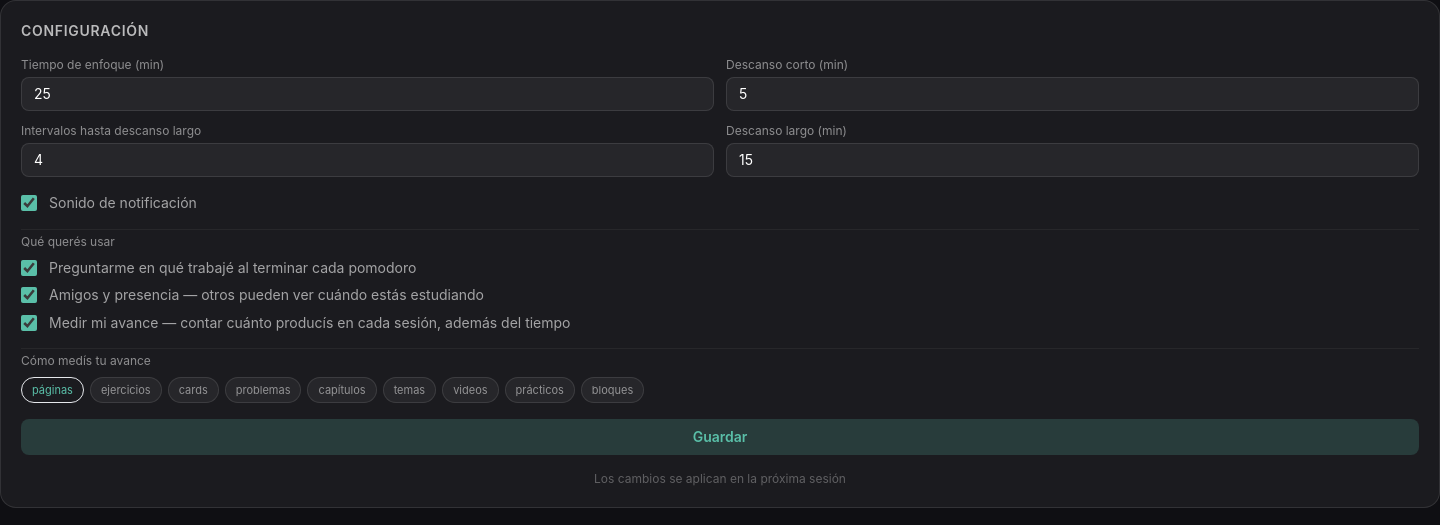
Test: SettingsPanel — unidad de avance › destildarla los esconde
This screenshot has width=1440, height=525.
What coordinates should you click on to do the following:
click the checkbox labelled "Medir mi avance"
I would click on:
 (29, 322)
Its box is [21,314,37,330].
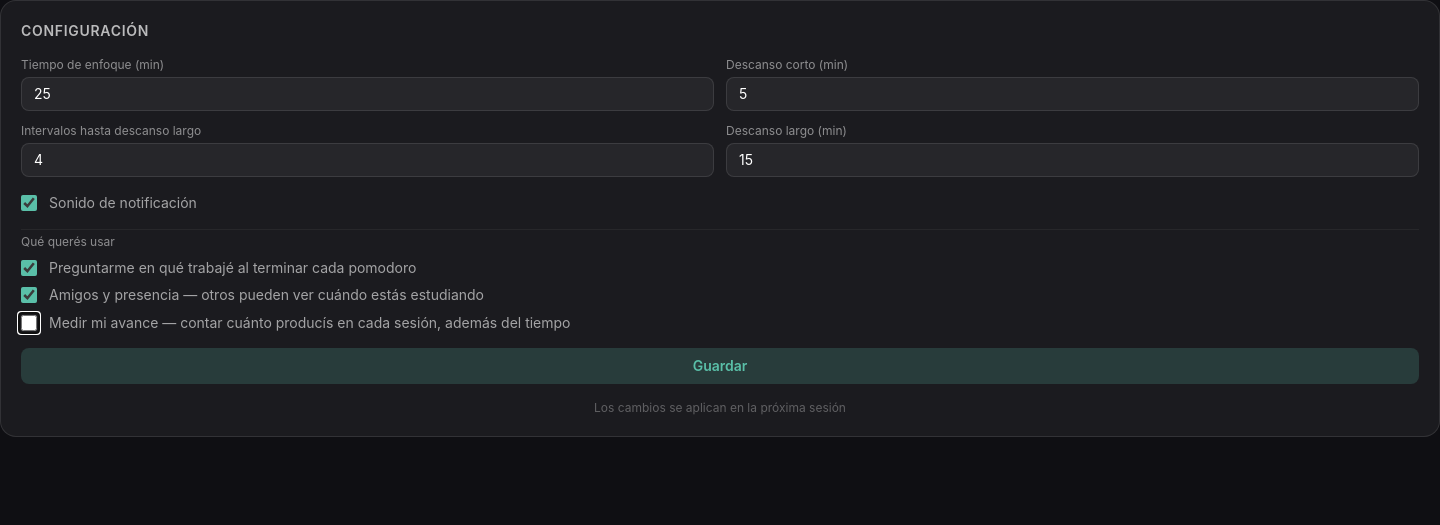
Check: the button "cards" is gone
